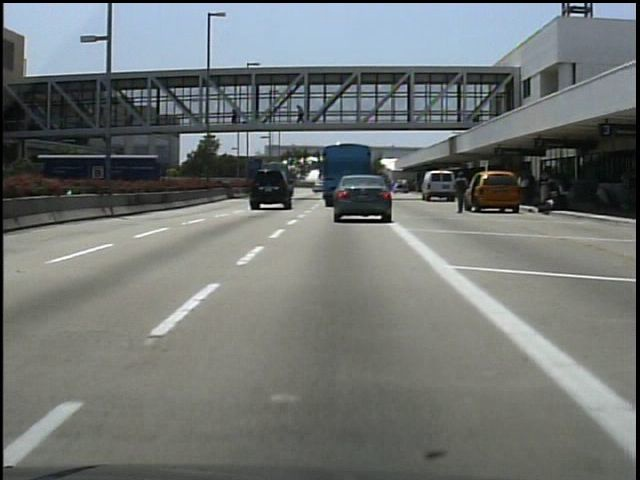person: (452, 171, 474, 219), (294, 103, 309, 130), (228, 102, 243, 125)
